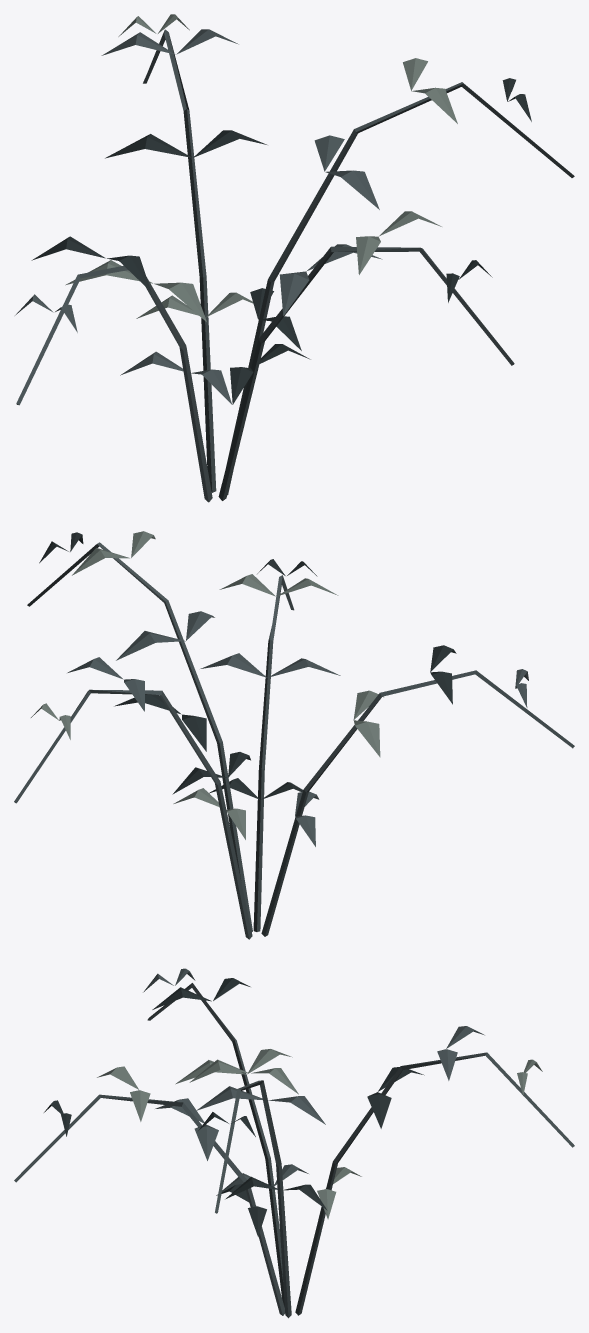
File: CHAR_FERN.shadow.glb
The picture shows the model from 3 angles, top to bottom: view 1: azimuth 30°, elevation 25°; view 2: azimuth 150°, elevation 25°; view 3: azimuth 270°, elevation 25°; orthographic projection. The views are drawn at different scales.
Visible parts, largest first — view 1: CHAR_FERN; view 2: CHAR_FERN; view 3: CHAR_FERN.
Boxes of the visible parts, <box> form: CHAR_FERN: <box>15,14,574,502</box>; CHAR_FERN: <box>14,531,574,939</box>; CHAR_FERN: <box>14,968,574,1318</box>.
Bounding box in the file's own units: 0.6685 × 0.4249 × 0.6732.
Materials: 1 (1 with a texture image).
